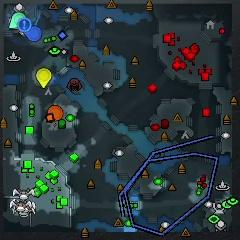p1: (21, 25, 43, 43)
p2: (9, 14, 25, 30)
p4: (36, 69, 52, 89)
p5: (46, 106, 65, 121)
